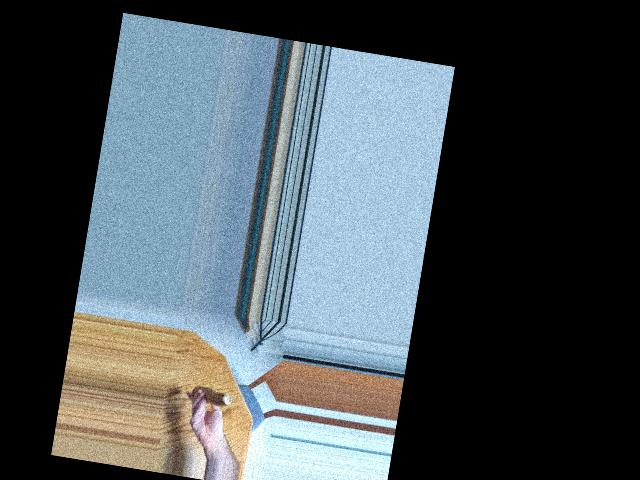sweet_potato: (192, 385, 226, 408)
